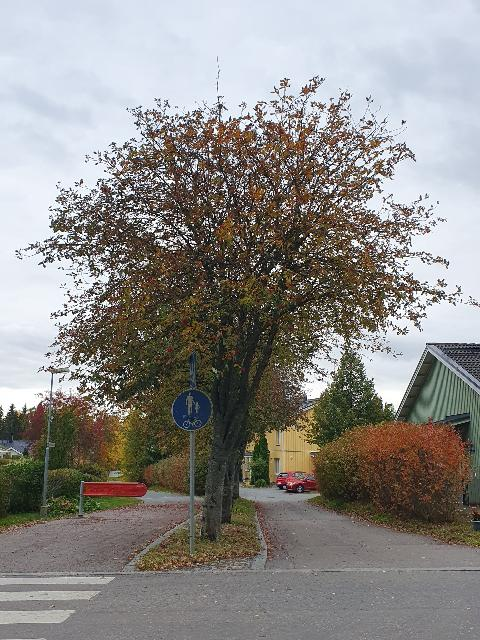rowan: (10, 50, 480, 546)
